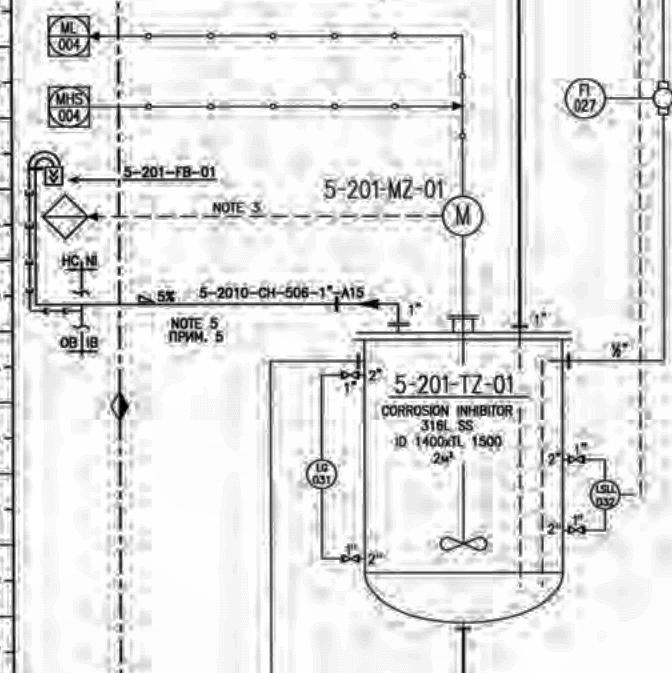DCS ACCESSIBLE: (41, 9, 99, 63), (43, 80, 95, 140)
FIELD INSTRUMENT: (561, 71, 609, 123), (436, 192, 485, 237), (586, 472, 625, 518), (304, 455, 340, 492)
GATE VALVE: (334, 543, 364, 567), (563, 517, 590, 541), (333, 367, 366, 386), (563, 448, 589, 471)
HARDWIRED INTERLOCK PRIMARY.: (38, 192, 92, 244)
